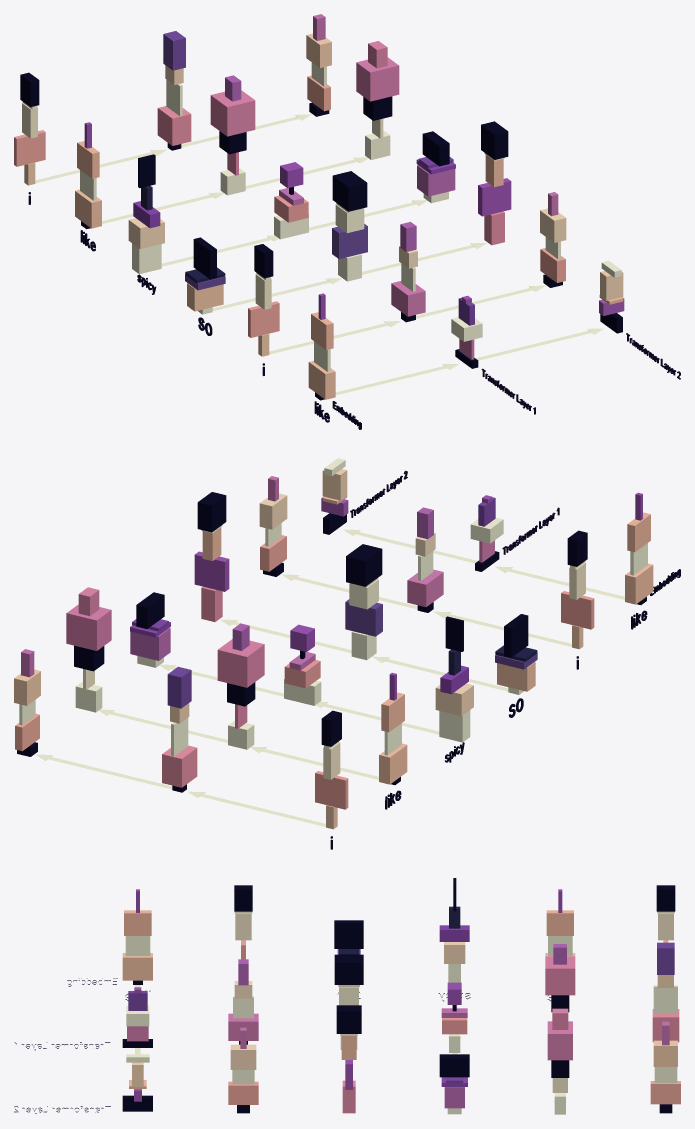
File: forward-no-attention.glb
3 views of the same model, one above another, from view 1: azimuth 30°, elevation 25°; view 2: azimuth 150°, elevation 25°; view 3: azimuth 270°, elevation 25° (orthographic). The views are drawn at different scales.
Parts seen in each view (by area): view 1: Renderer Node; view 2: Renderer Node; view 3: Renderer Node.
Part boxes in pixels (bbox=[...]): Renderer Node: bbox=[14, 14, 680, 429]; Renderer Node: bbox=[14, 458, 680, 849]; Renderer Node: bbox=[14, 878, 680, 1114].
Size of the model in its own units: 11 by 4.43 by 22.11.
